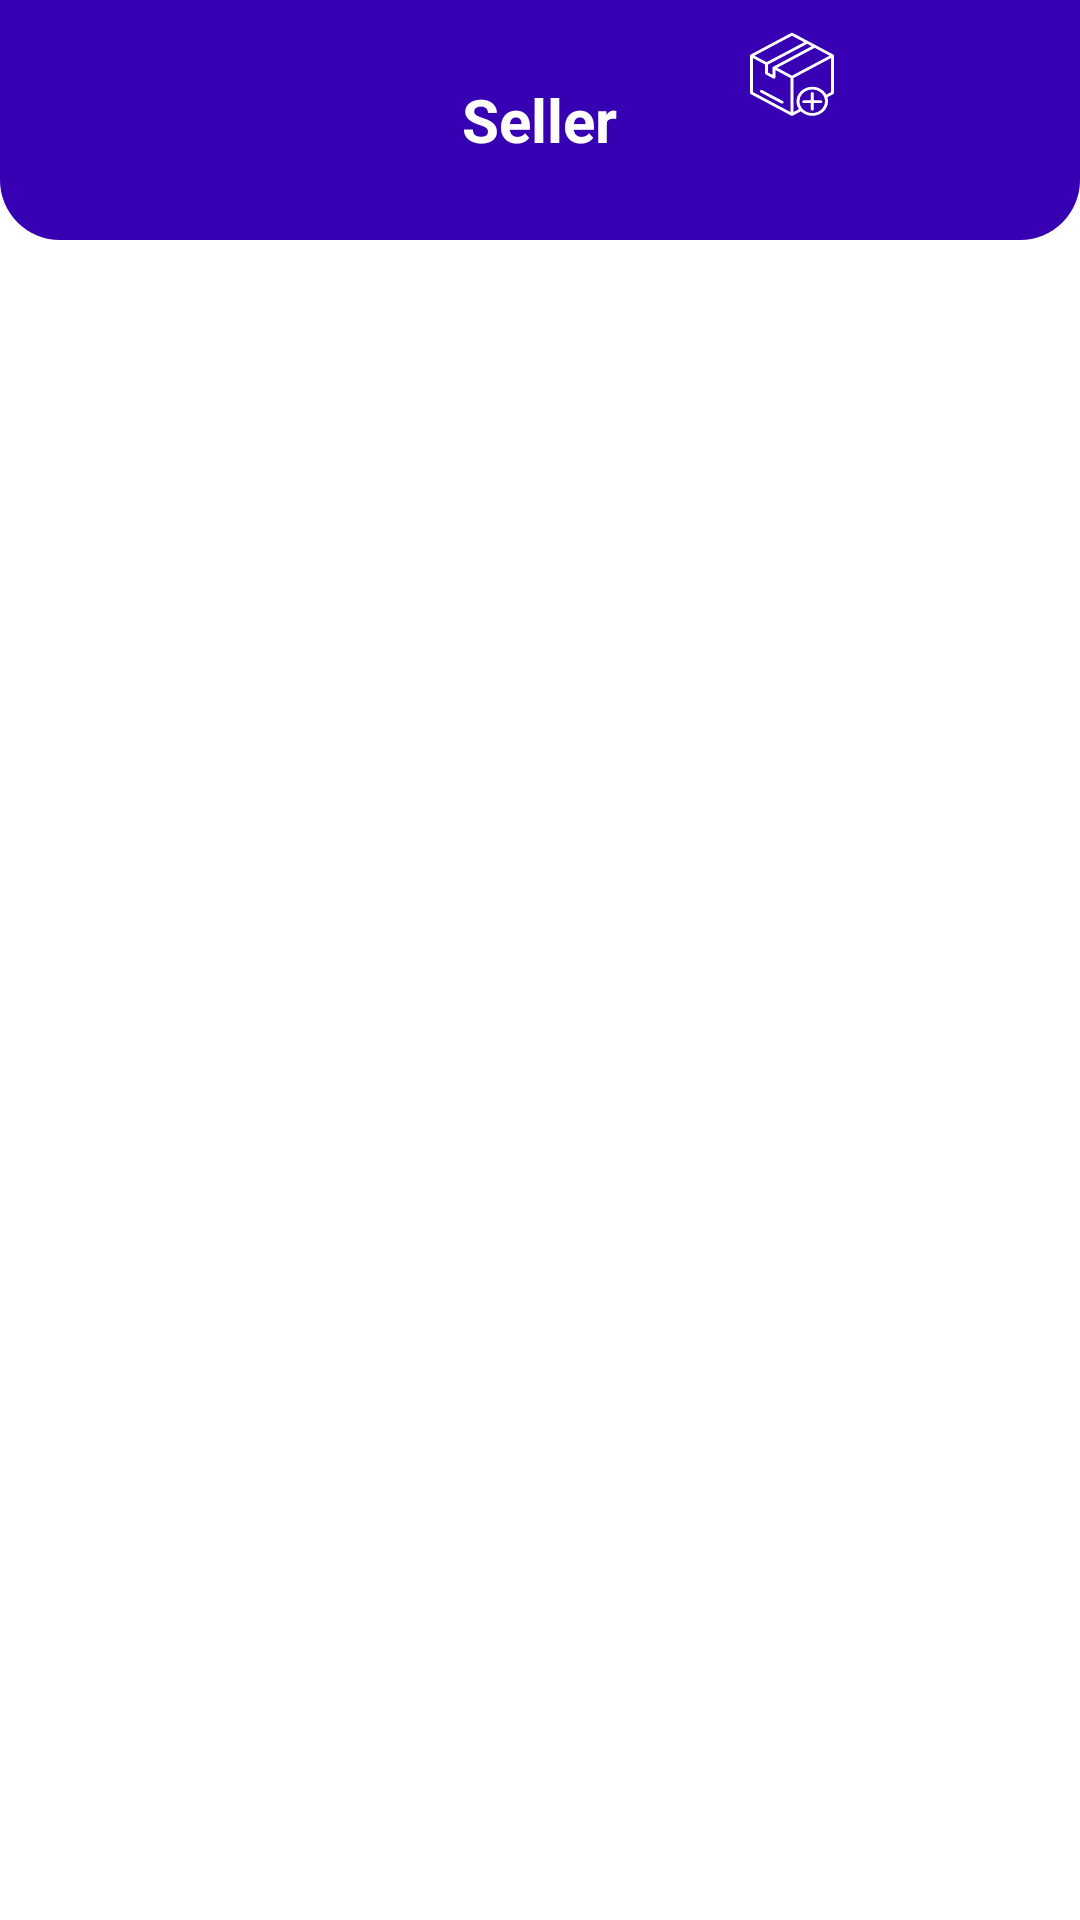

Screen size 1080*1920. Icon name, then its box in pixels as (x1, y1, x2, y2):
add prodact whit: (750, 32, 834, 116)
